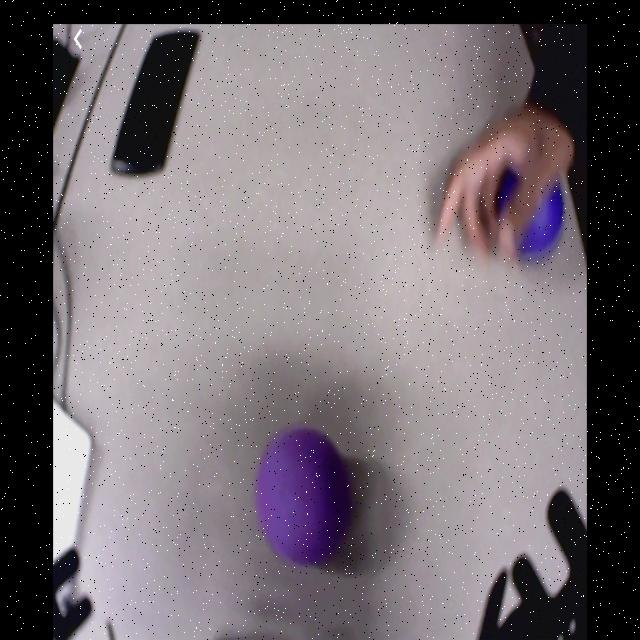ball: (257, 427, 349, 562), (497, 161, 564, 254)
